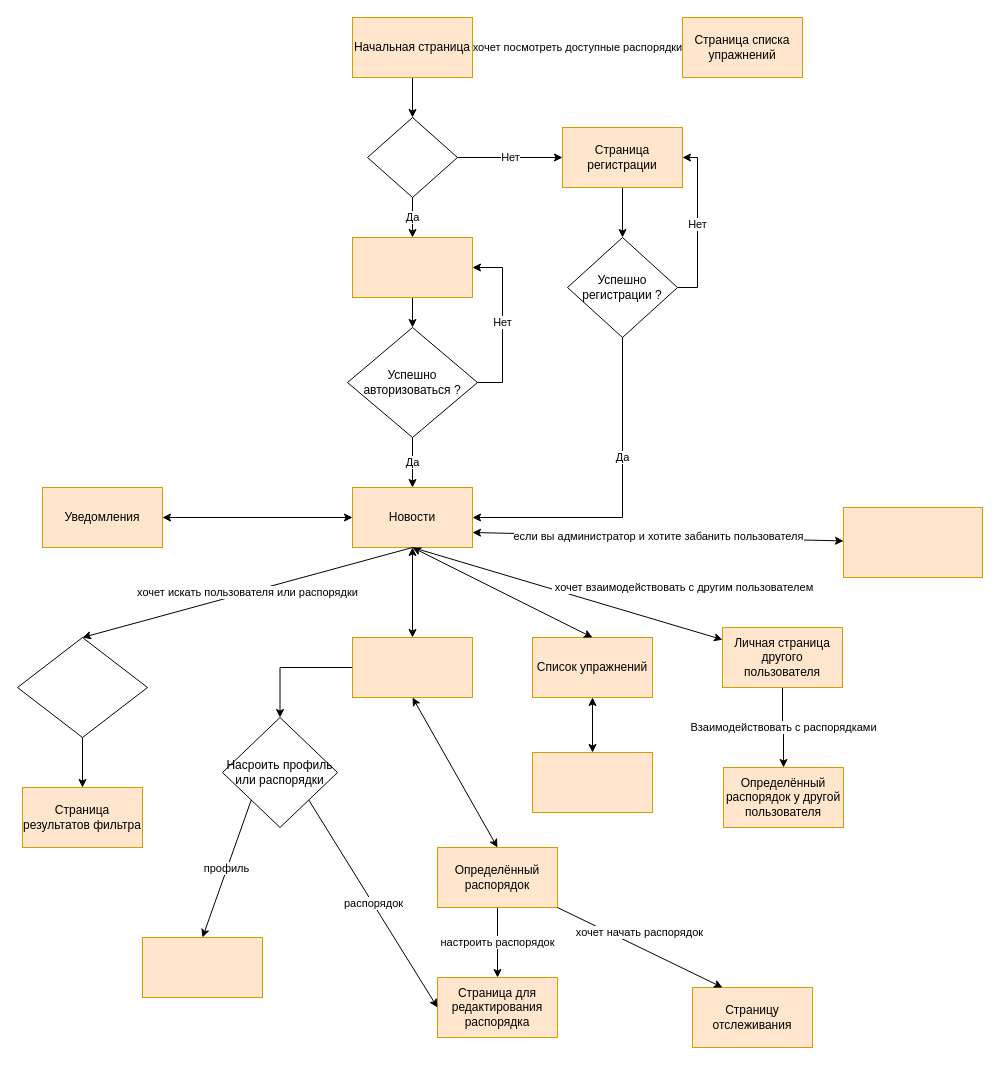
This 1000x1065 diagram has some shape labels left out. The centre of each missing label's shape, as x and y in pixels:
Enter information in search bar: the point at 82,687
Личная страница: the point at 412,667
Личная страница других пользователей глазами администратора: the point at 912,542
Определённое упражнение: the point at 592,782
Страница входа: the point at 412,267
Страница для редактирования профиля: the point at 202,967
уже есть аккаунт?: the point at 412,157
